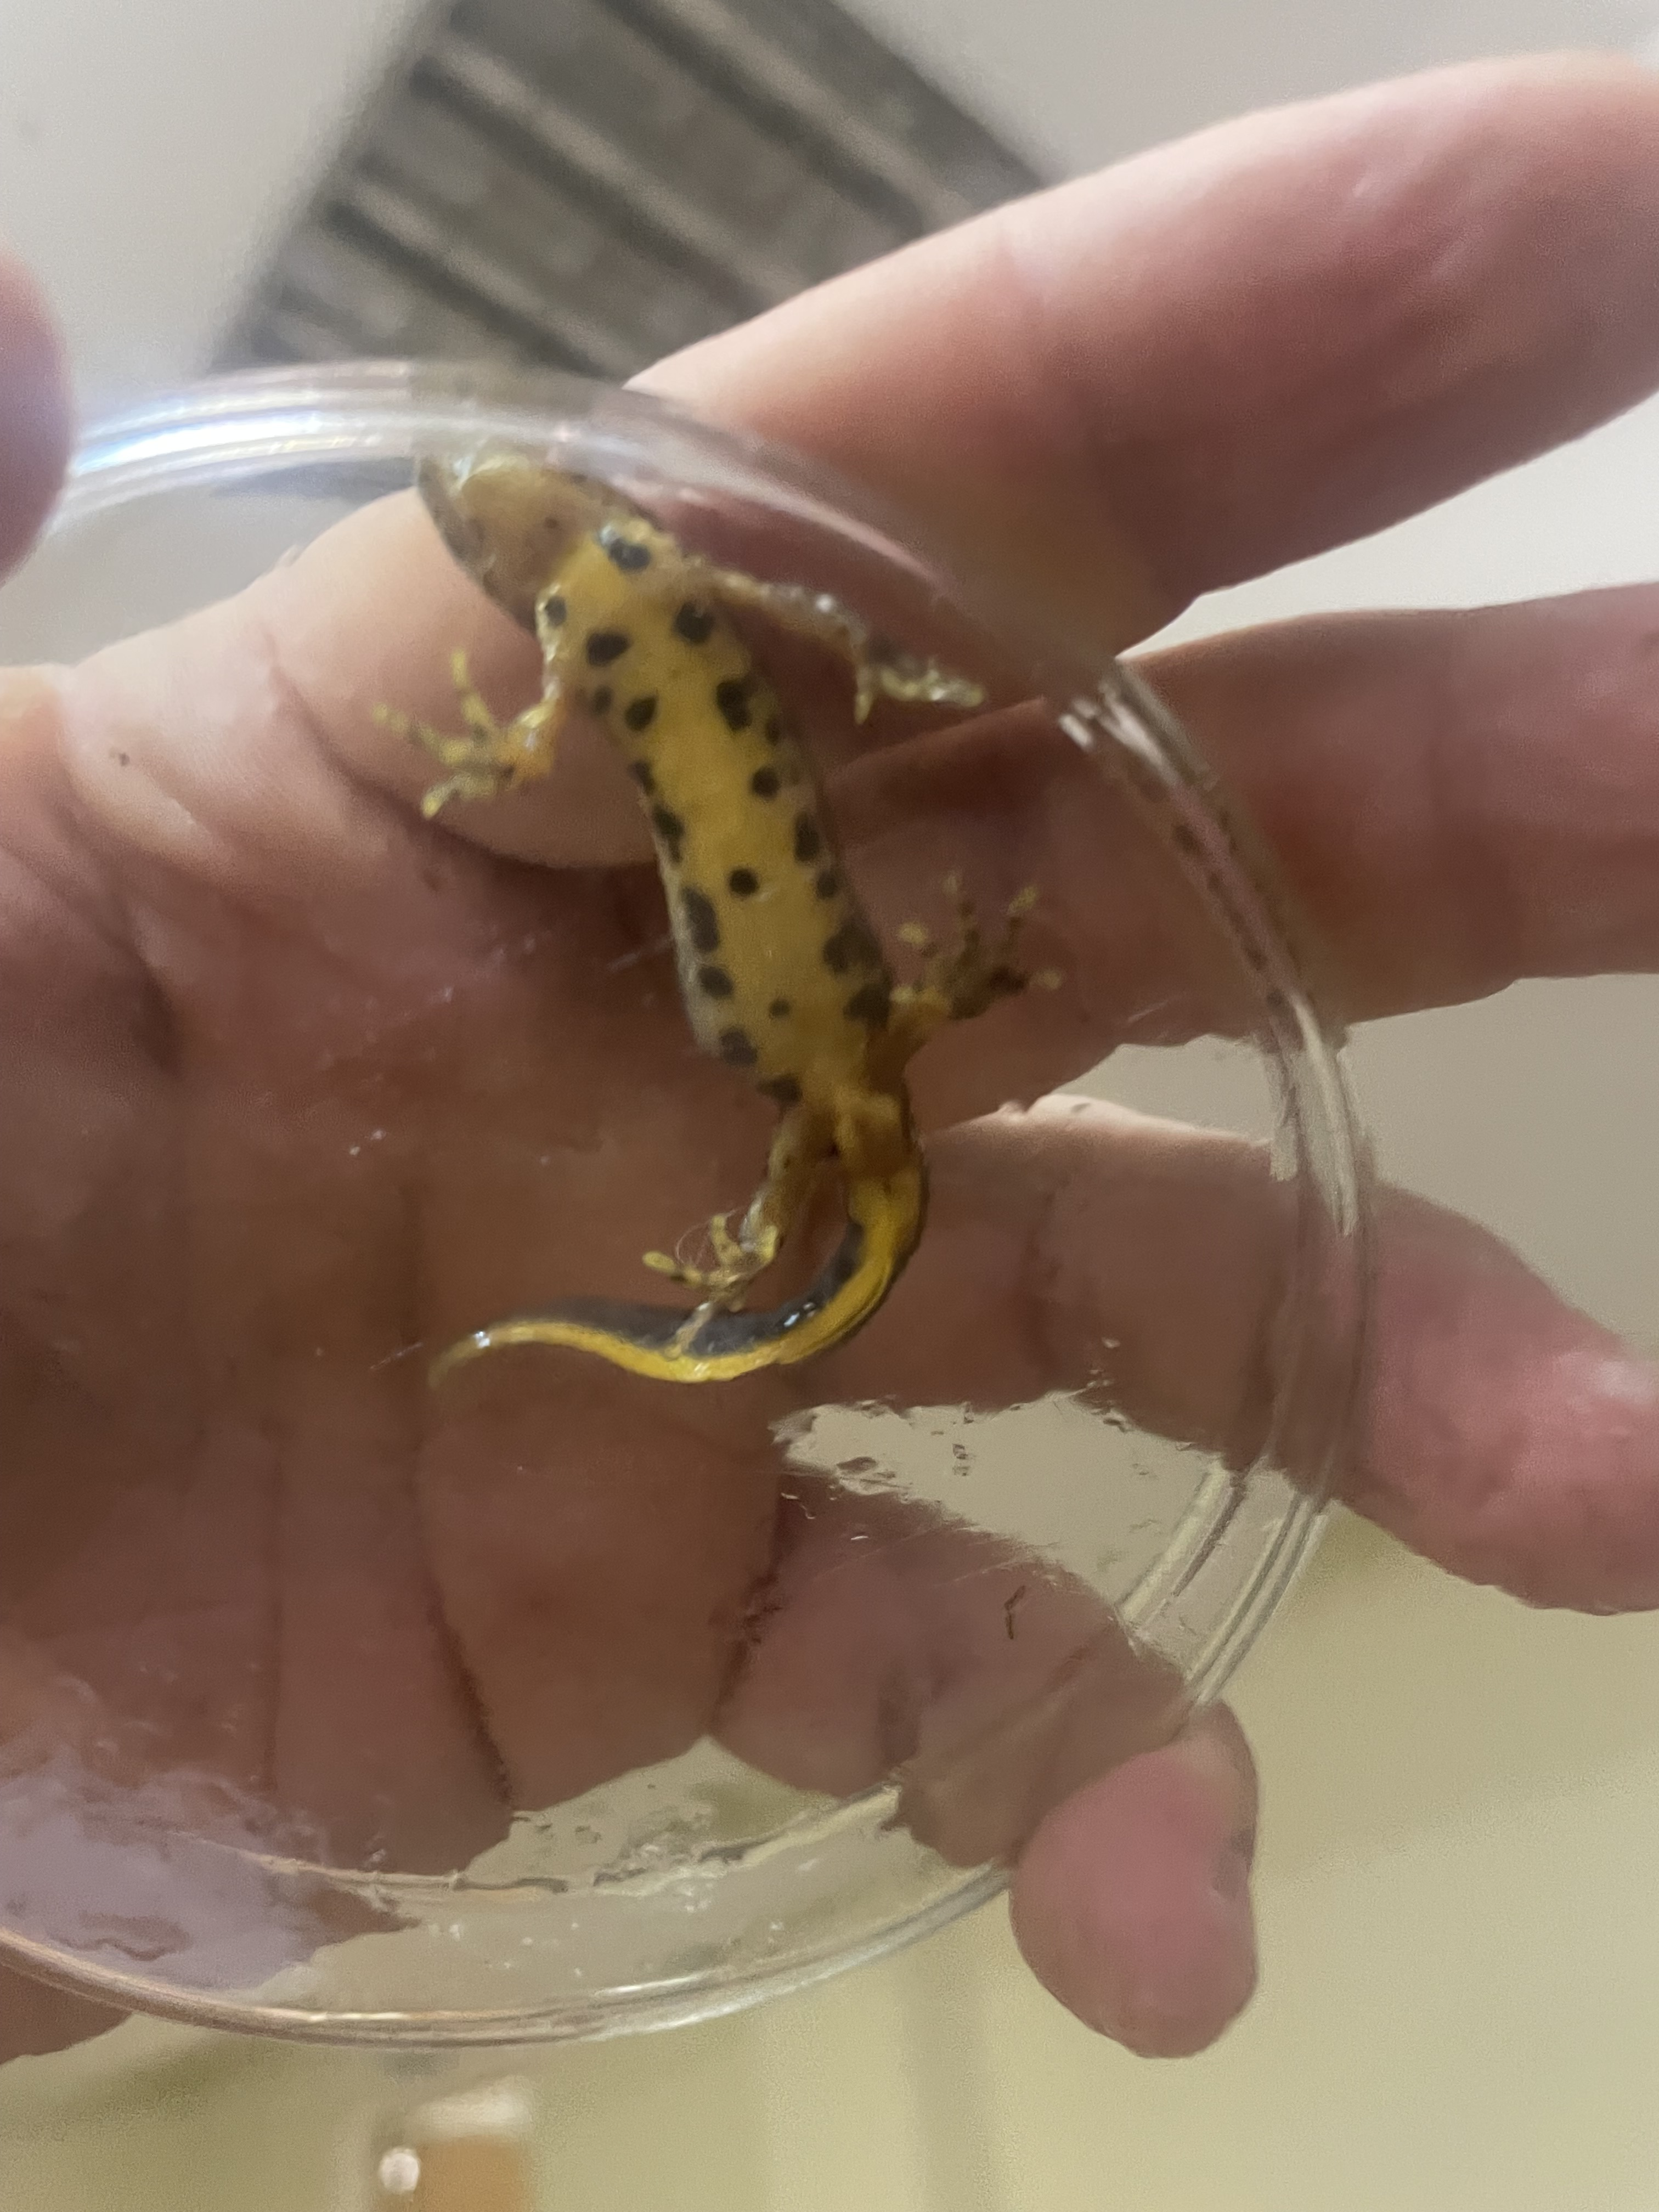Karelin_newt: (570, 596, 896, 1109)
